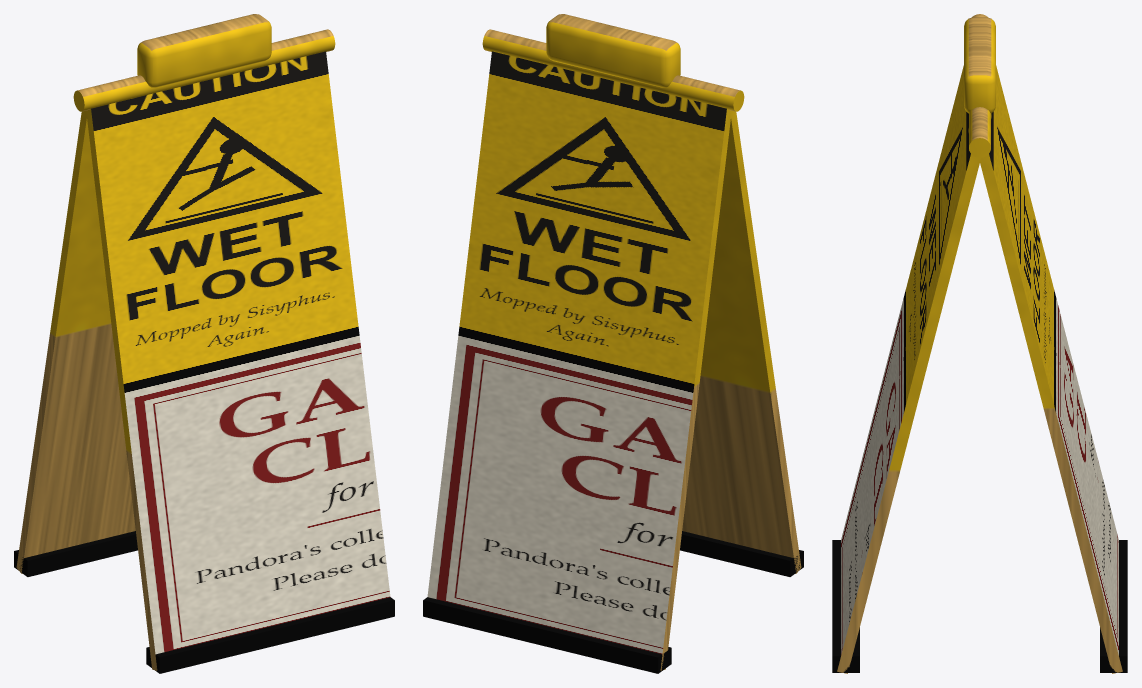
Rendered from wet_floor.gltf.
3 renders of one model, left to right at view 1: azimuth 30°, elevation 25°; view 2: azimuth 150°, elevation 25°; view 3: azimuth 270°, elevation 25°, orthographic.
Parts seen in each view (by area): view 1: WetFloor; view 2: WetFloor; view 3: WetFloor.
Part boxes in pixels (x1=…): WetFloor: x1=14, y1=14, x2=394, y2=673; WetFloor: x1=423, y1=14, x2=803, y2=673; WetFloor: x1=832, y1=14, x2=1127, y2=673.
Bounding box in the file's own units: 0.32 × 0.6864 × 0.322.
2 materials, 2 textured.
